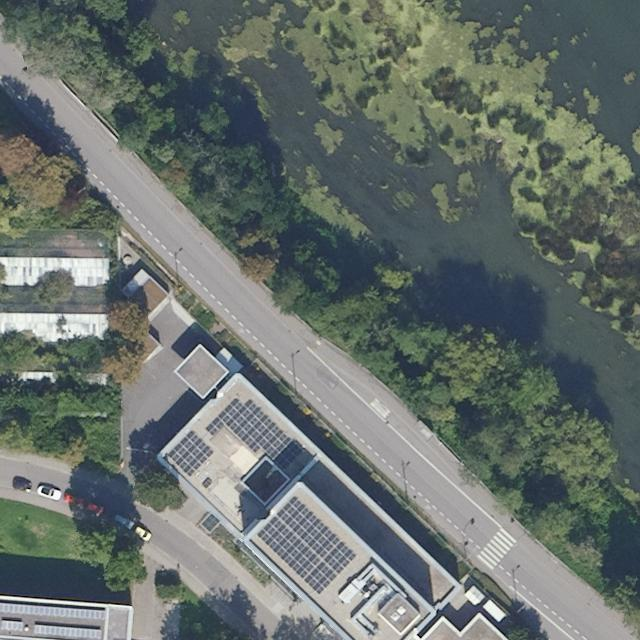PV: (254, 495, 359, 597), (202, 396, 306, 472), (166, 428, 216, 479), (0, 602, 106, 620), (32, 624, 104, 639), (0, 620, 24, 633)
